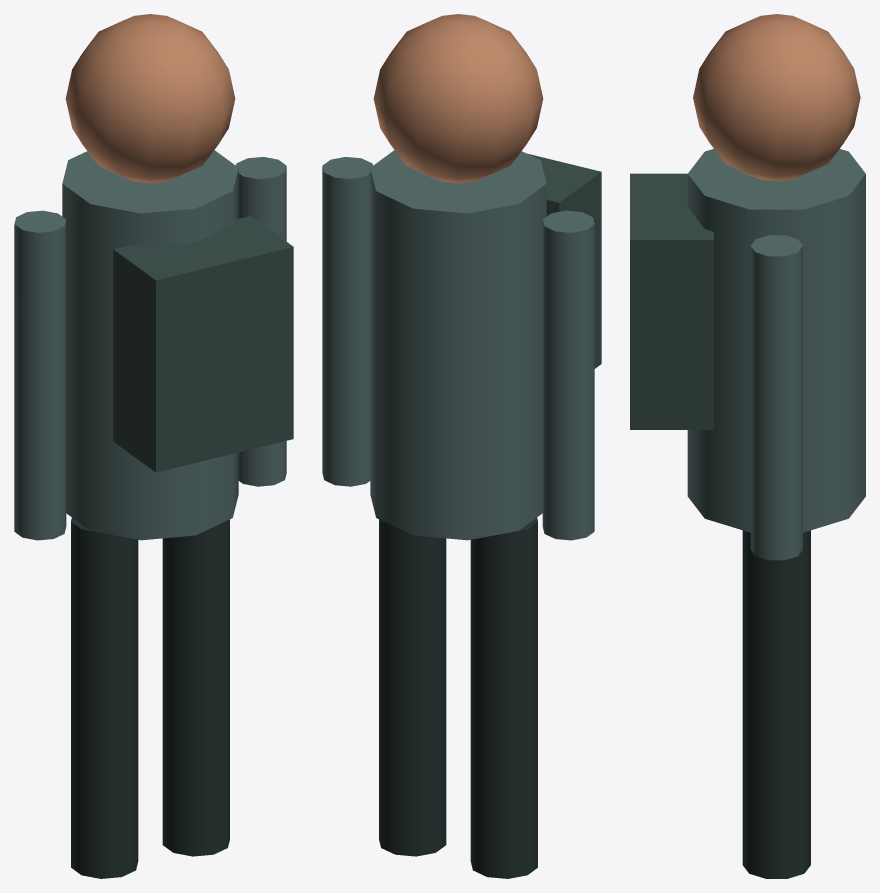
File: pedestrian-man.glb
3 renders of one model, left to right at view 1: azimuth 30°, elevation 25°; view 2: azimuth 150°, elevation 25°; view 3: azimuth 270°, elevation 25°, orthographic.
Visible parts, largest first — view 1: pedestrian-man; view 2: pedestrian-man; view 3: pedestrian-man.
Boxes of the visible parts, x1,y1,x2,y2 form: pedestrian-man: (14, 14, 293, 878); pedestrian-man: (322, 14, 601, 878); pedestrian-man: (630, 14, 865, 878).
Bounding box in the file's own units: 0.5751 × 1.73 × 0.45.
